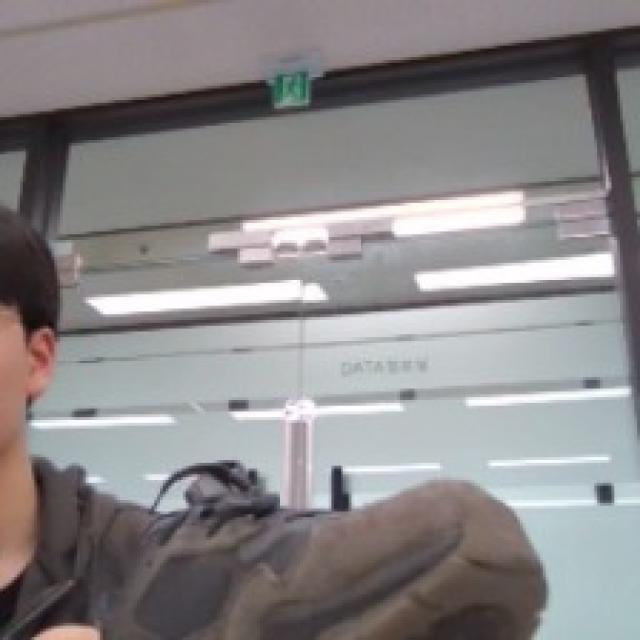shoe: (53, 400, 547, 640)
